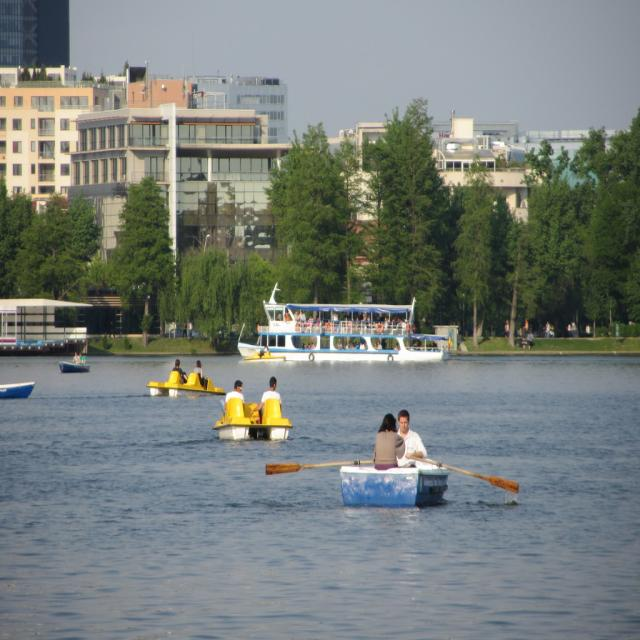Boat: (226, 290, 444, 371), (266, 459, 519, 506), (212, 397, 292, 440), (147, 372, 224, 397), (0, 381, 34, 401), (59, 362, 90, 372)
